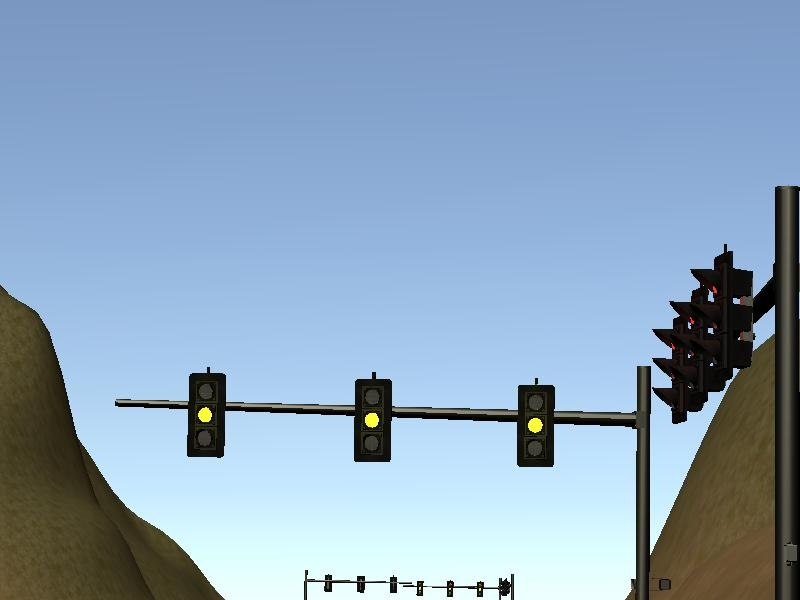YELLOW: (516, 384, 555, 467), (352, 378, 391, 461), (186, 373, 225, 456)
